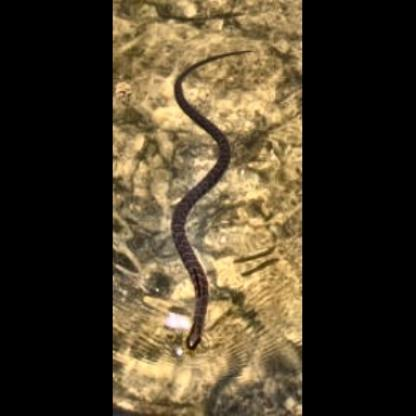Snake: (162, 38, 246, 354)
